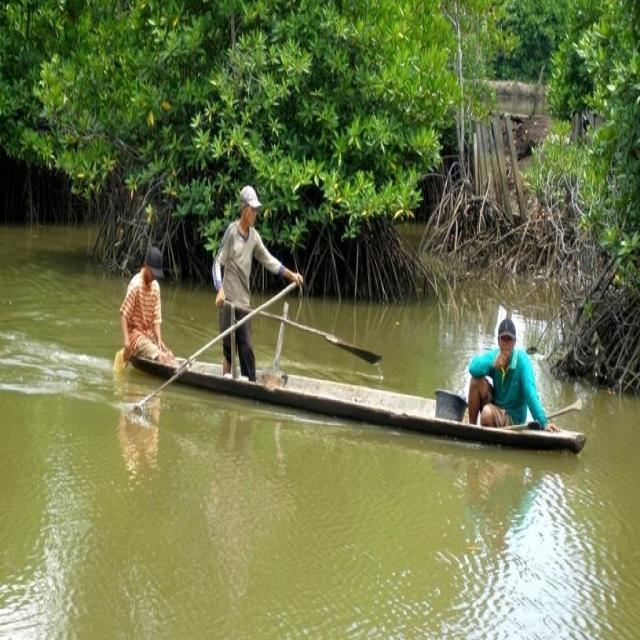boat: (130, 336, 596, 452)
